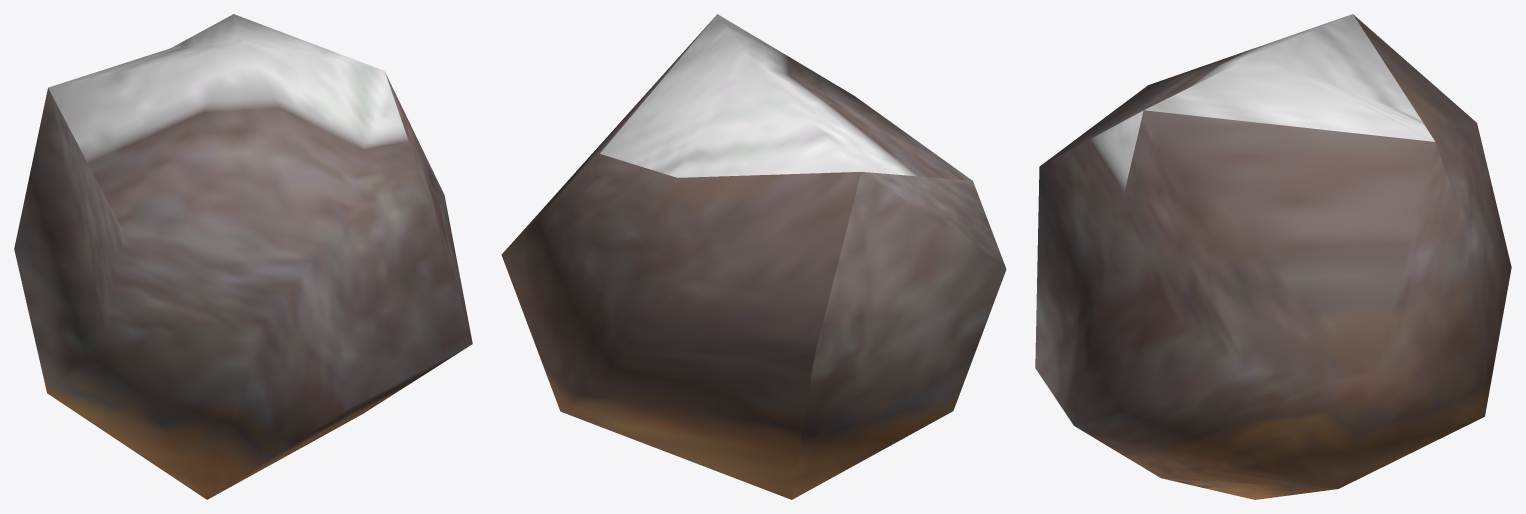
The model's file is stone.fbx.
3 renders of one model, left to right at view 1: azimuth 30°, elevation 25°; view 2: azimuth 150°, elevation 25°; view 3: azimuth 270°, elevation 25°, orthographic. The views are drawn at different scales.
Visible parts, largest first — view 1: Stone_F_1_LOD3; view 2: Stone_F_1_LOD3; view 3: Stone_F_1_LOD3.
Boxes of the visible parts, left/top/right/bottom form: Stone_F_1_LOD3: left=14, top=14, right=472, bottom=499; Stone_F_1_LOD3: left=501, top=14, right=1006, bottom=499; Stone_F_1_LOD3: left=1035, top=14, right=1511, bottom=499.
Bounding box in the file's own units: 0.134 × 0.1321 × 0.128.
